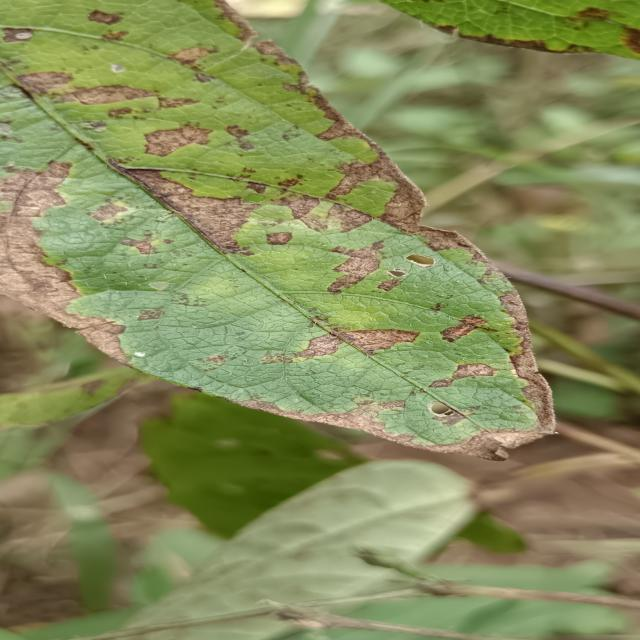Black gram_leaf spot: (0, 0, 571, 466)
